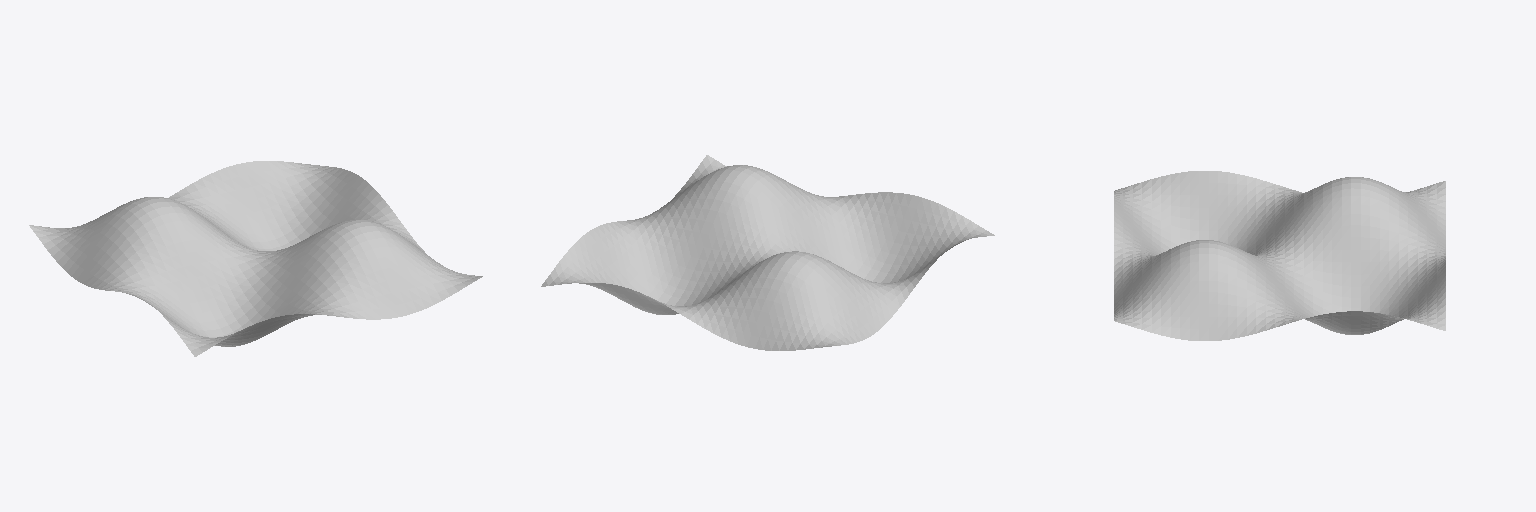
3 renders of one model, left to right at view 1: azimuth 30°, elevation 25°; view 2: azimuth 150°, elevation 25°; view 3: azimuth 270°, elevation 25°, orthographic.
Visible parts, largest first — view 1: Equation; view 2: Equation; view 3: Equation.
Boxes of the visible parts, x1=… form: Equation: x1=29, y1=161, x2=482, y2=356; Equation: x1=541, y1=155, x2=994, y2=350; Equation: x1=1114, y1=171, x2=1445, y2=340.
Bounding box in the file's own units: 7 × 1.99 × 7.